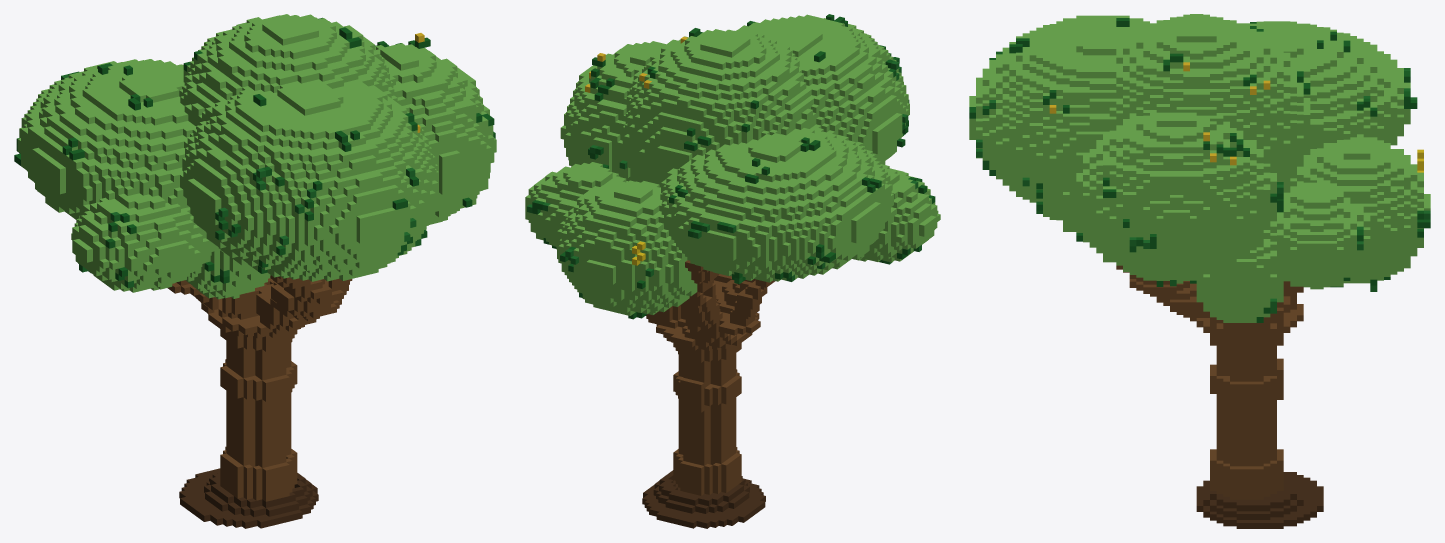
Rendered from Arbórea - Cajá jovem.obj.
The picture shows the model from 3 angles, left to right: view 1: azimuth 30°, elevation 25°; view 2: azimuth 150°, elevation 25°; view 3: azimuth 270°, elevation 25°; orthographic projection. The views are drawn at different scales.
Size of the model in its own units: 6.6 by 7.9 by 6.9.
1 material, 1 textured.
